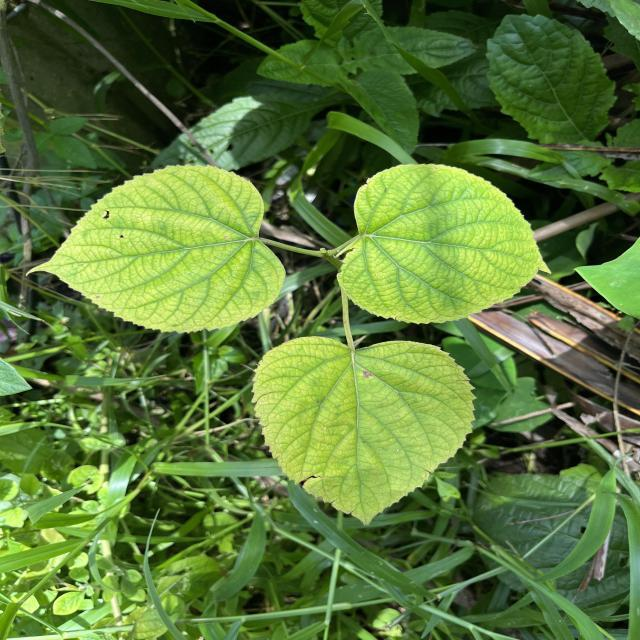Clerodendrum infortunatum: (25, 162, 287, 334), (250, 334, 478, 526), (336, 162, 552, 326)
